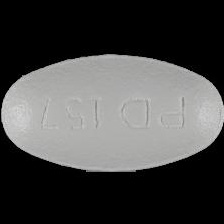42254-019: (0, 0, 224, 224)
